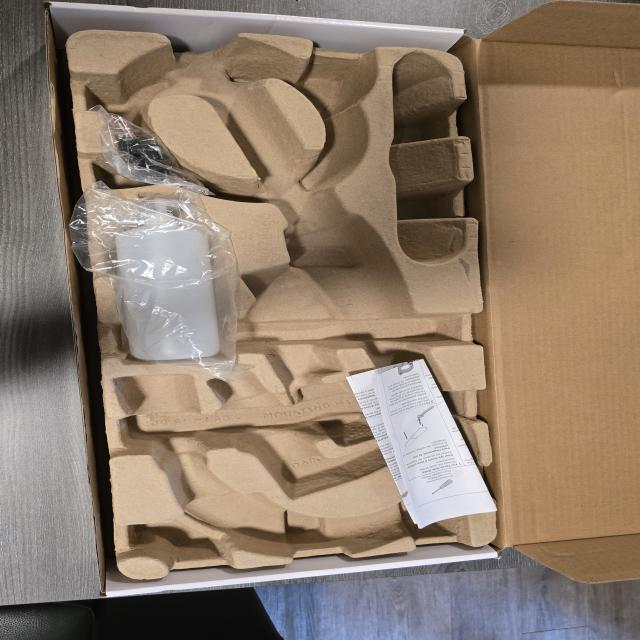1m: (111, 33, 480, 559)
2m: (208, 372, 415, 497)
3: (111, 200, 219, 362)
4m: (387, 54, 466, 262)
5m: (307, 65, 372, 109)
6m: (87, 62, 172, 120)
7: (103, 112, 214, 195)
8: (345, 357, 499, 529)
